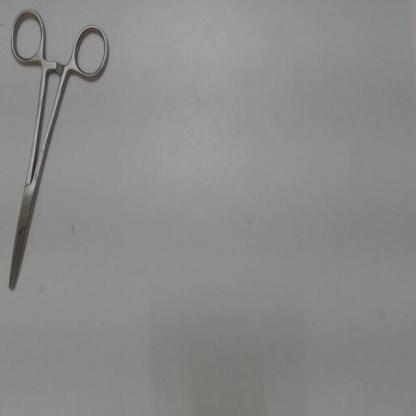Mayo Needle Holder: (3, 3, 118, 307)
